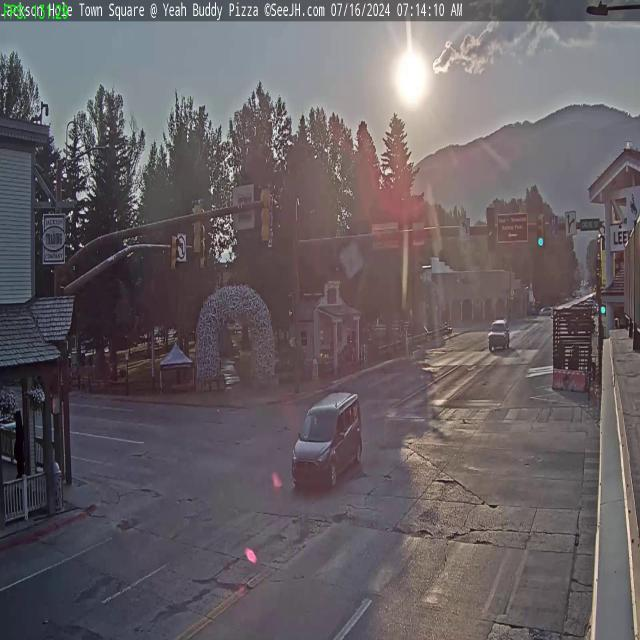suv: (488, 318, 510, 352)
traffic light: (190, 199, 203, 256), (261, 184, 273, 245), (170, 236, 181, 275), (487, 206, 496, 247), (536, 214, 546, 248), (200, 237, 208, 269)
van: (292, 389, 365, 492)
